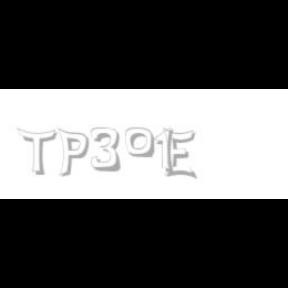1: (153, 128, 175, 176)
3: (91, 128, 122, 172)
E: (162, 128, 196, 180)
P: (57, 128, 89, 178)
T: (17, 128, 57, 176)
o: (126, 128, 154, 158)
